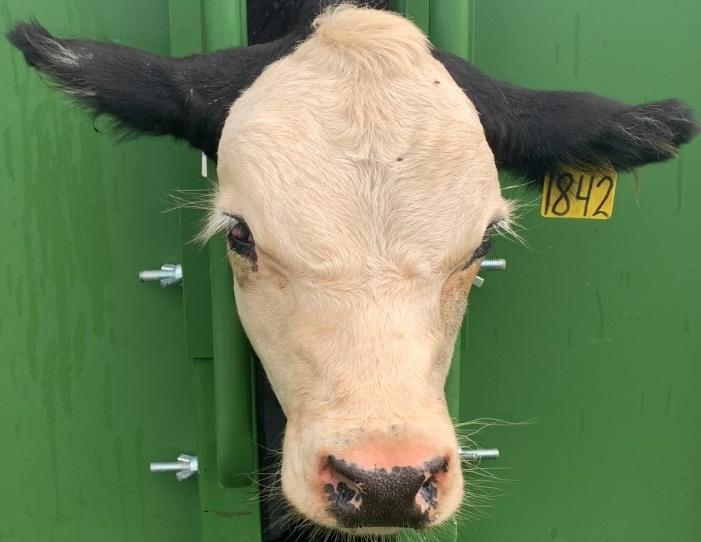muzzles: (282, 426, 471, 541)
